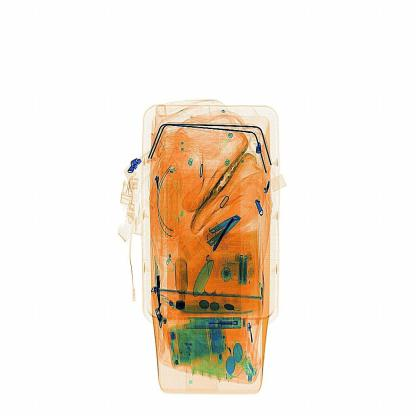knife: (209, 210, 241, 256)
